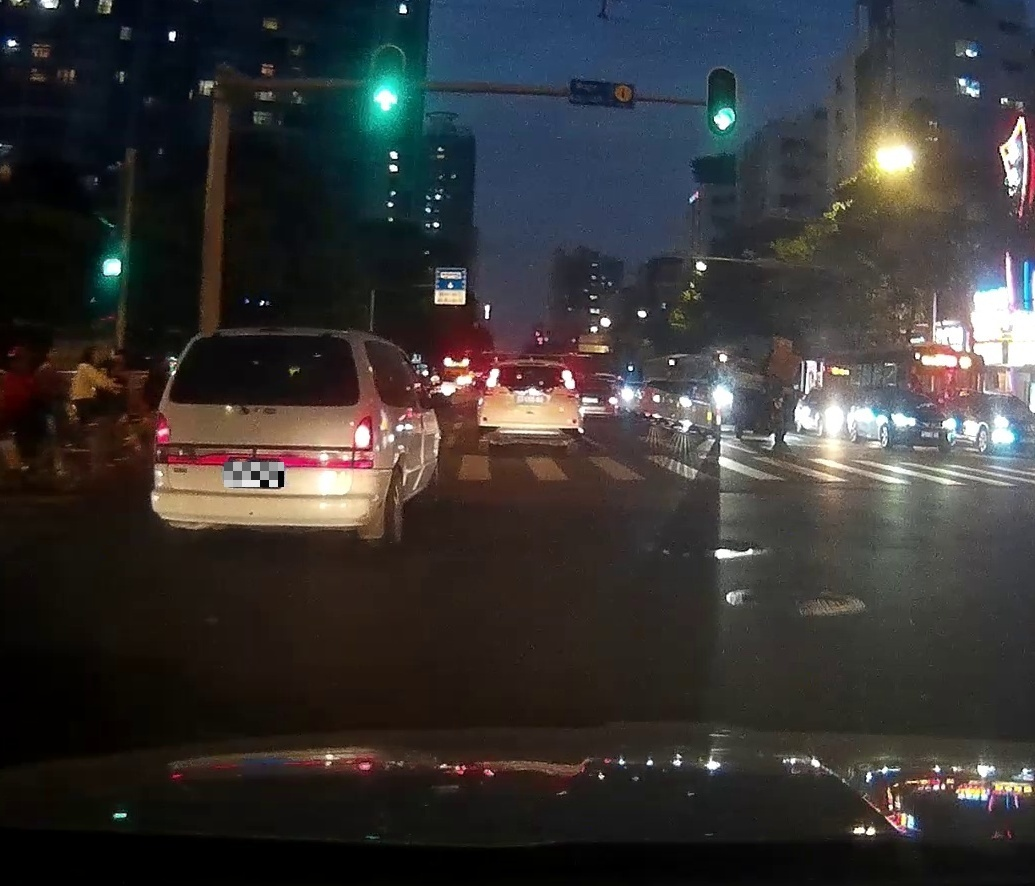L_light: (152, 410, 171, 463), (483, 368, 500, 396)
R_light: (351, 415, 374, 469), (561, 369, 580, 399)
T_light: (251, 335, 284, 340), (515, 361, 545, 365)
night-no: (150, 326, 382, 550), (476, 360, 583, 458)
plate_1: (224, 462, 284, 487)
